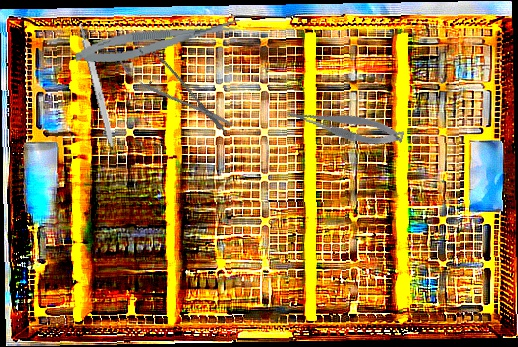Micro Scissor: (101, 28, 243, 146), (72, 13, 244, 70), (284, 94, 406, 156)
Scalpel Handle: (77, 22, 119, 151)
